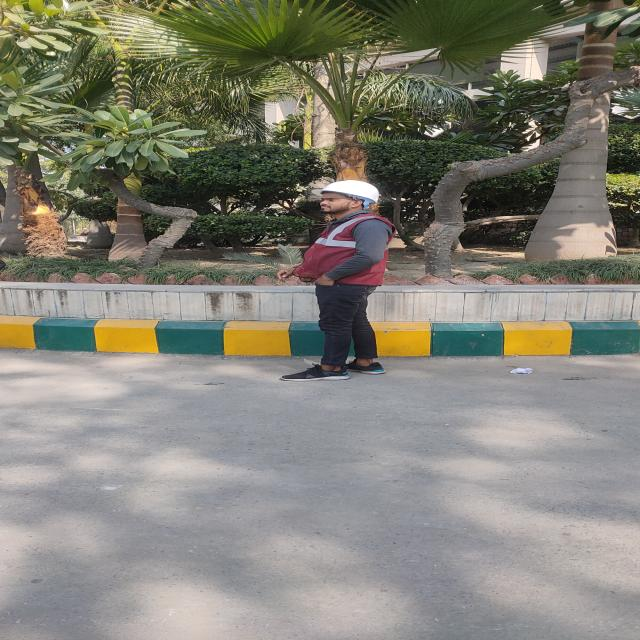safe: (278, 180, 398, 380)
